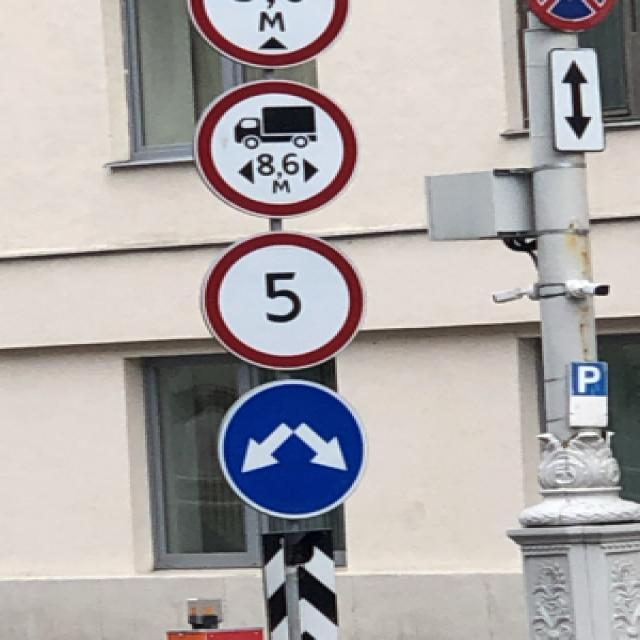speedlimit: (196, 229, 365, 368)
